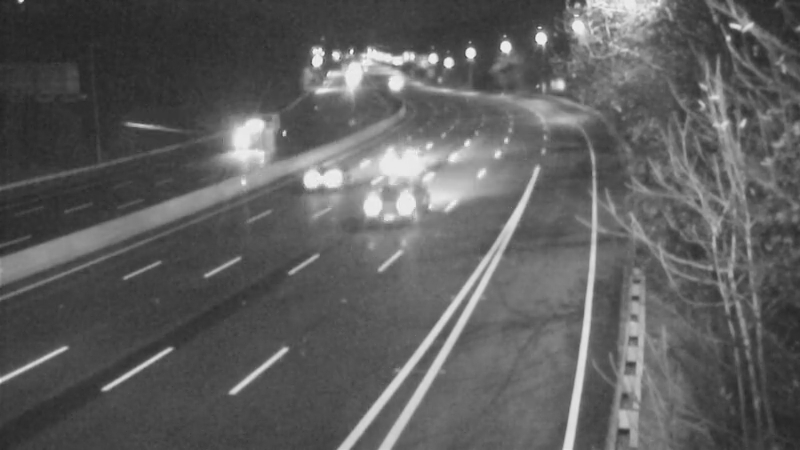vehicle: (368, 119, 448, 199), (282, 138, 362, 218), (348, 170, 428, 250), (370, 60, 420, 110), (219, 116, 269, 166)
